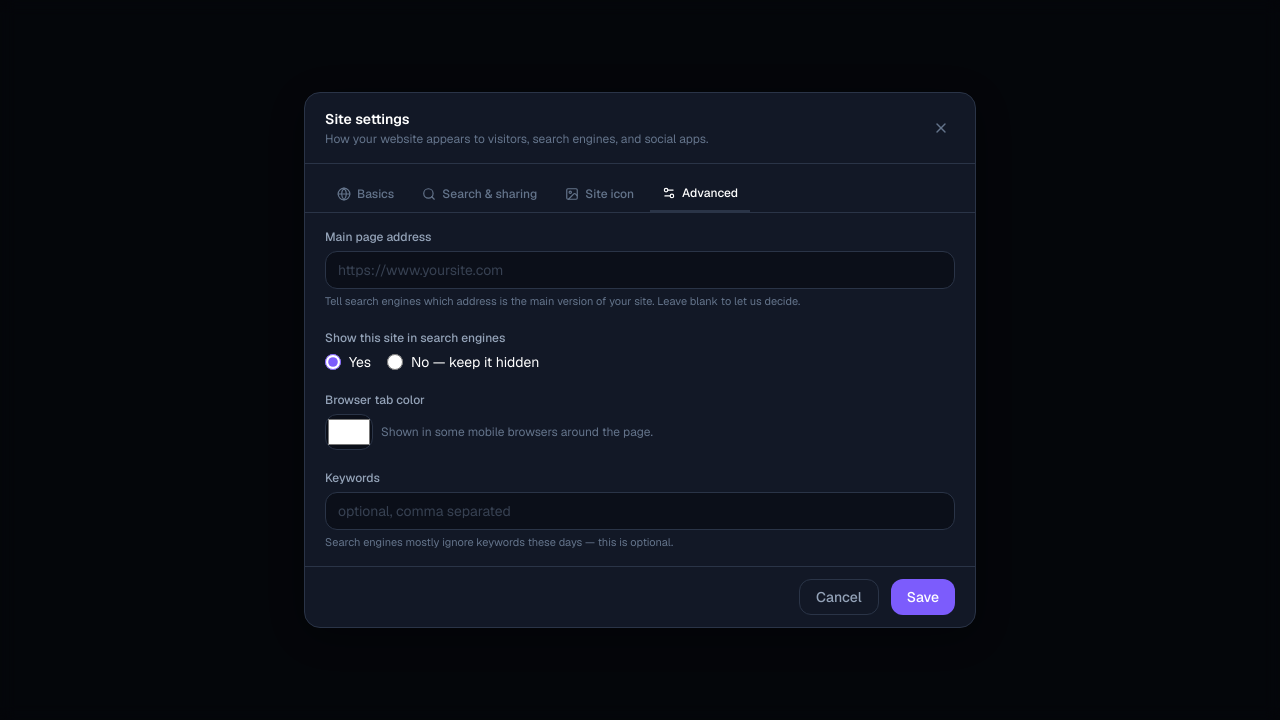
Scenario: SiteSettingsDialog › shows advanced settings including canonical validation
The width and height of the screenshot is (1280, 720).
Type "example.com" into the field with test id "site-settings-canonical".
click(640, 270); type("example.com")  # box [325,251,955,289]
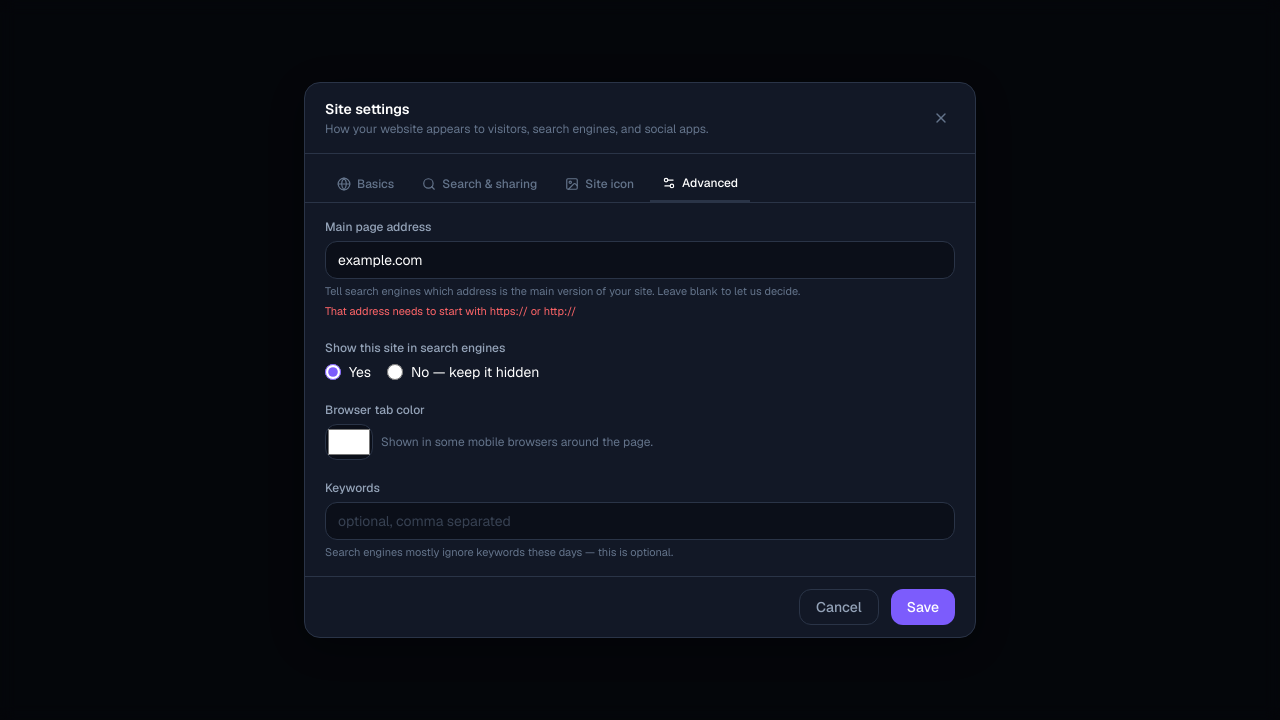
Now the text "That address needs to start with https:// or http://" is shown, box [325,304,576,318]
